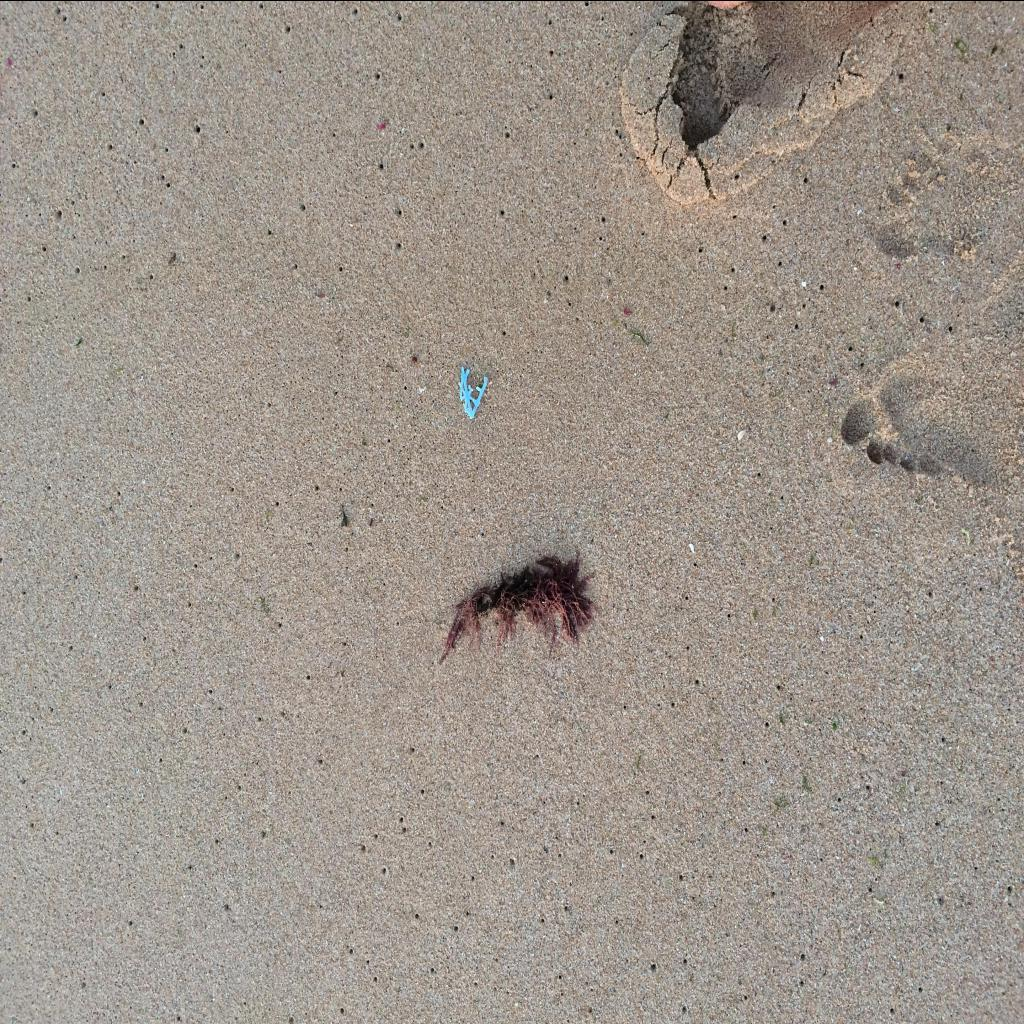Other plastic bottle: (458, 366, 488, 418)
